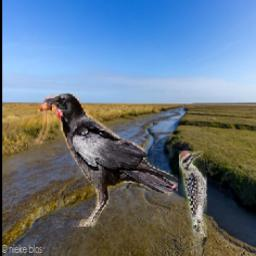Crow: (28, 88, 178, 228)
Woodpecker: (179, 151, 207, 255)
